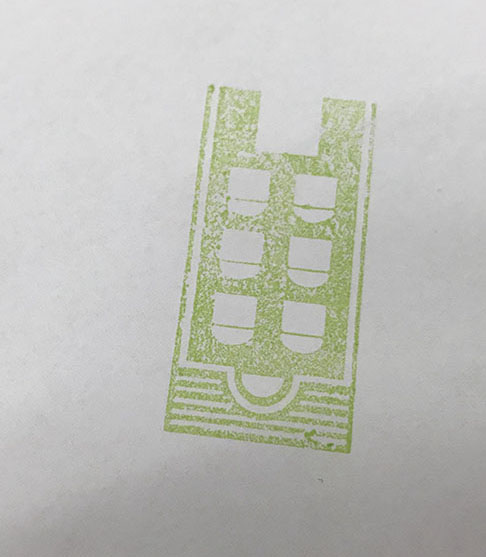build: (147, 61, 391, 483)
